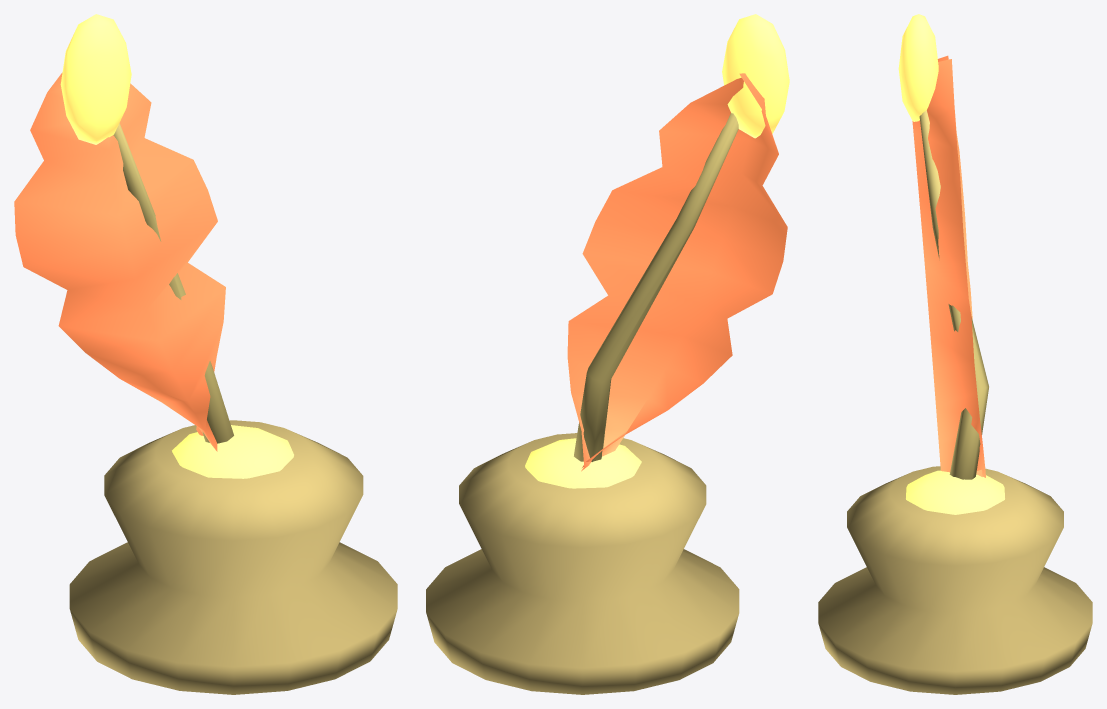
The model's file is REL_PHOENIX_F.glb.
3 views of the same model, side by side, from view 1: azimuth 30°, elevation 25°; view 2: azimuth 150°, elevation 25°; view 3: azimuth 270°, elevation 25° (orthographic). The views are drawn at different scales.
Parts seen in each view (by area): view 1: Inkwell, PhoenixVane, TipEmber, InkEmber, QuillShaft; view 2: Inkwell, PhoenixVane, QuillShaft, TipEmber, InkEmber; view 3: Inkwell, PhoenixVane, QuillShaft, InkEmber, TipEmber.
Part boxes in pixels (x1,y1,x2,y2): Inkwell: (69, 420, 397, 694); PhoenixVane: (14, 72, 225, 451); TipEmber: (60, 14, 131, 144); InkEmber: (172, 425, 293, 478); QuillShaft: (113, 123, 233, 443); Inkwell: (426, 433, 739, 694); PhoenixVane: (567, 73, 787, 471); QuillShaft: (574, 113, 738, 461); TipEmber: (722, 14, 789, 138); InkEmber: (525, 438, 641, 488); Inkwell: (818, 466, 1092, 694); PhoenixVane: (912, 55, 985, 477); QuillShaft: (919, 110, 988, 479); InkEmber: (906, 470, 1004, 514); TipEmber: (898, 14, 938, 121).
Size of the model in its own units: 0.0952 by 0.1685 by 0.0748.
